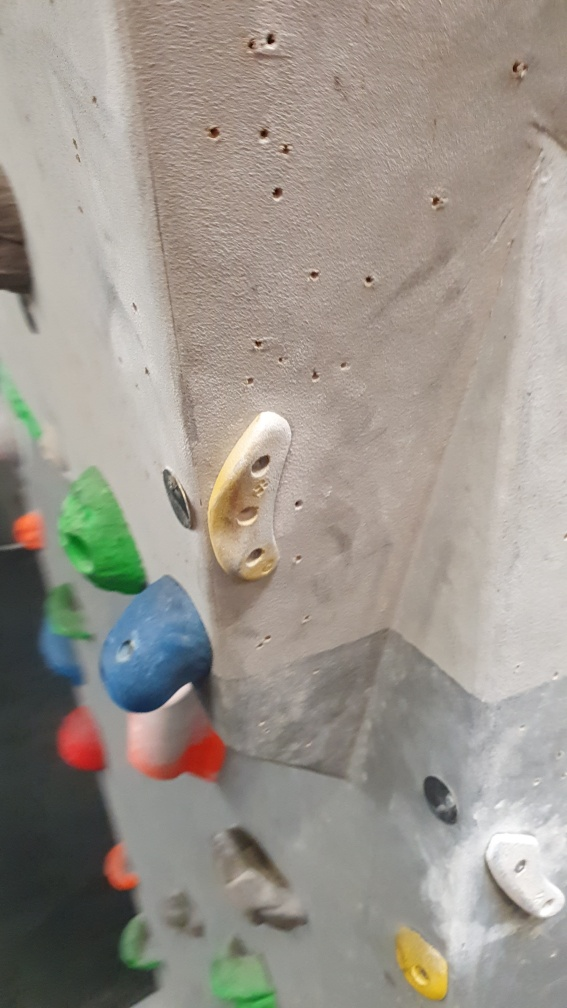Crimp: (208, 401, 291, 588)
Hand Start: (161, 465, 199, 534), (422, 771, 460, 831)
Jug: (210, 823, 308, 934)
Sloper: (93, 576, 215, 714)
